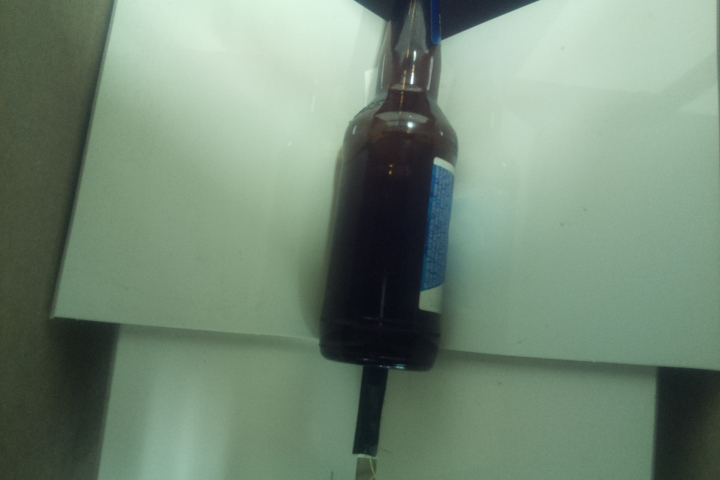makju: (318, 1, 462, 375)
